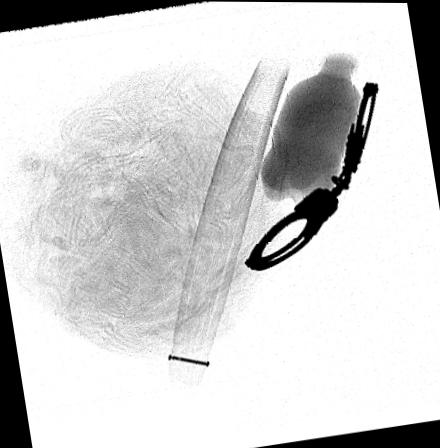HandCuffs: (243, 81, 380, 270)
